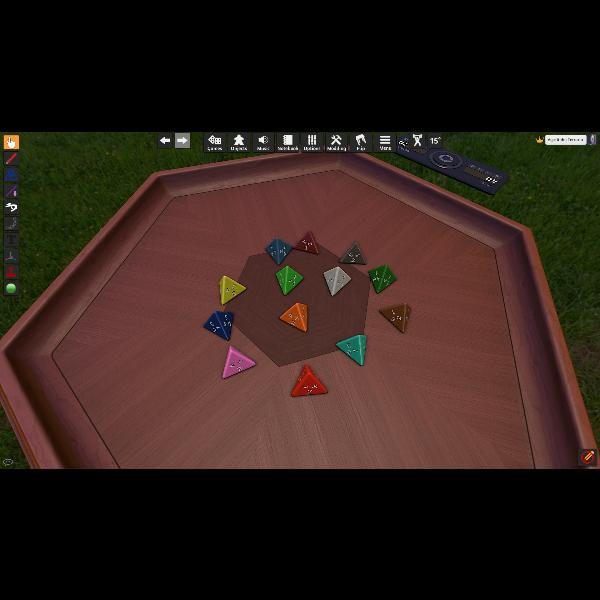d4: (291, 364, 327, 396), (224, 346, 256, 378), (336, 334, 366, 366), (202, 310, 232, 340), (380, 301, 408, 332), (279, 302, 307, 332), (219, 275, 246, 305), (323, 266, 350, 296), (276, 265, 302, 295), (266, 236, 292, 266), (369, 264, 396, 292), (293, 231, 319, 256), (339, 240, 365, 264)
